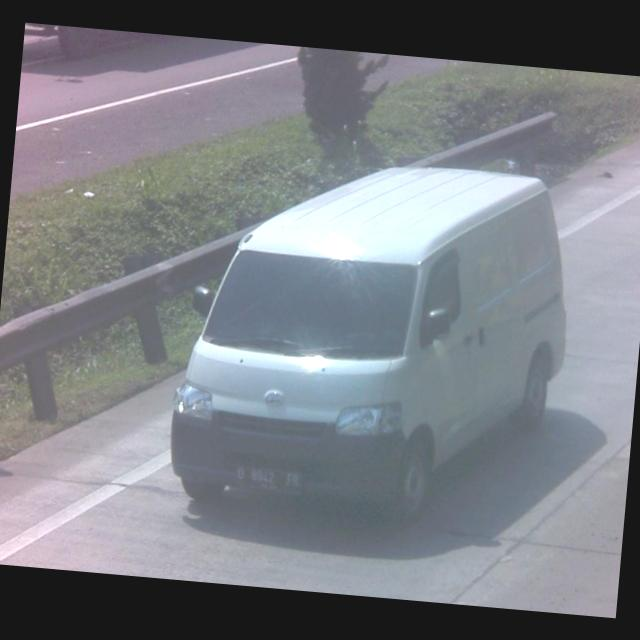plate: (230, 462, 308, 496)
